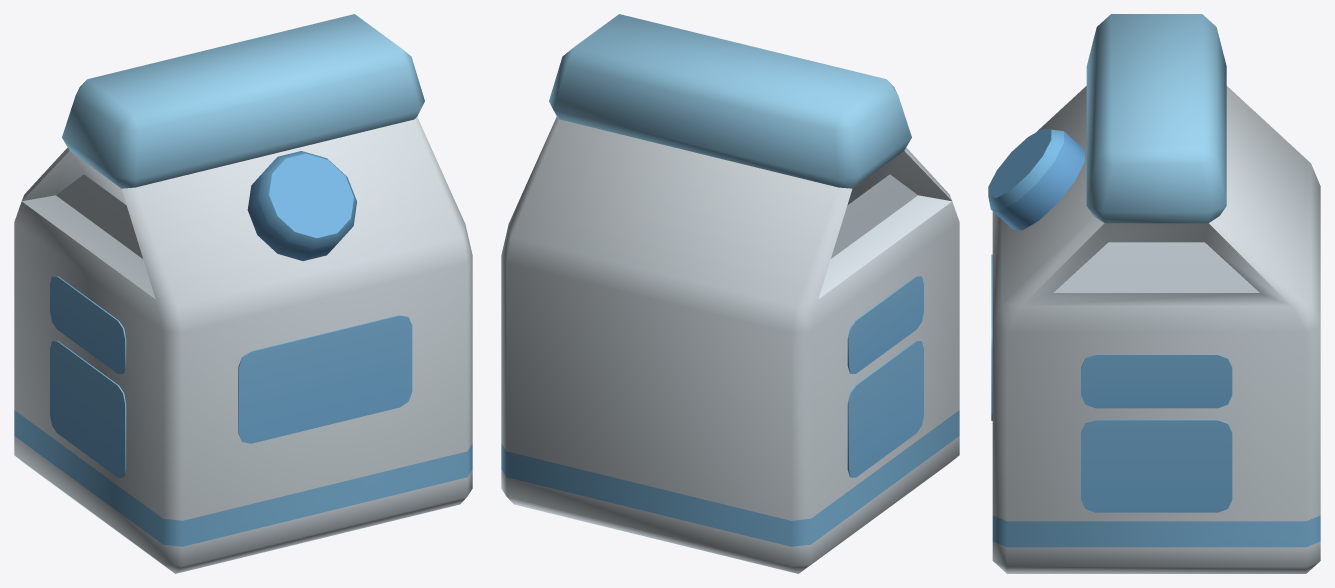
File: milk.glb
3 renders of one model, left to right at view 1: azimuth 30°, elevation 25°; view 2: azimuth 150°, elevation 25°; view 3: azimuth 270°, elevation 25°, orthographic.
Visible parts, largest first — view 1: milk; view 2: milk; view 3: milk.
Part boxes in pixels (x1=…): milk: x1=14, y1=14, x2=472, y2=573; milk: x1=501, y1=14, x2=959, y2=573; milk: x1=988, y1=14, x2=1320, y2=573.
Bounding box in the file's own units: 0.3627 × 0.4684 × 0.3324.
Materials: 1 (1 with a texture image).
